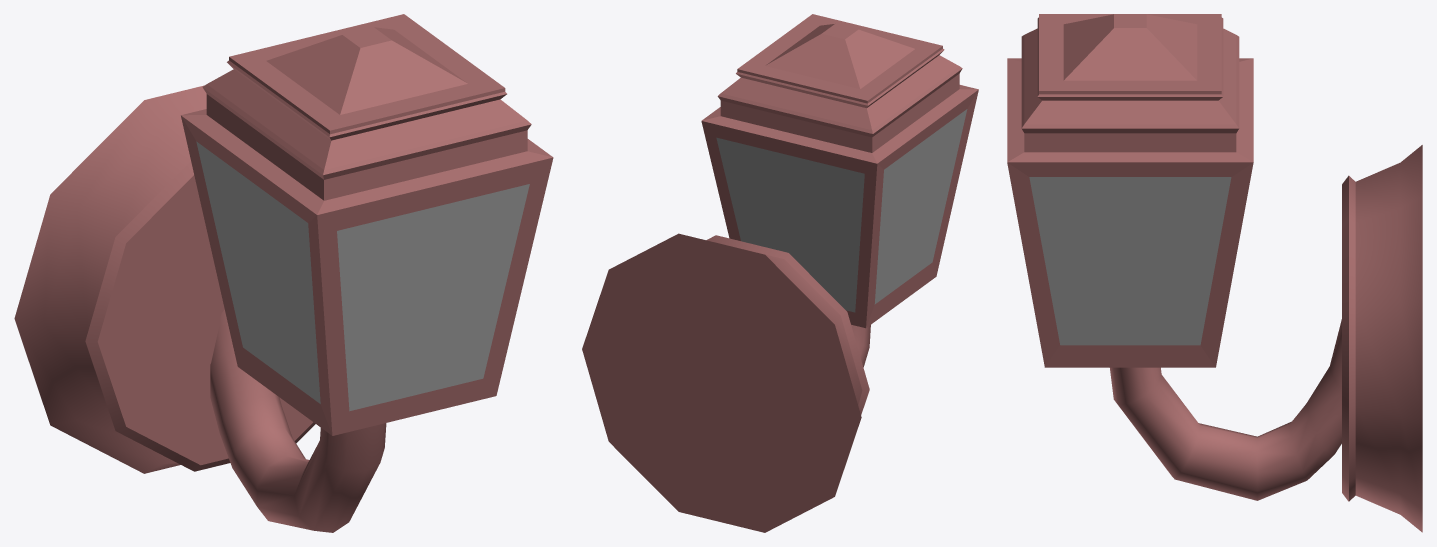
File: Wall Lamp.fbx
3 renders of one model, left to right at view 1: azimuth 30°, elevation 25°; view 2: azimuth 150°, elevation 25°; view 3: azimuth 270°, elevation 25°, orthographic. The views are drawn at different scales.
Parts seen in each view (by area): view 1: pCube173; view 2: pCube173; view 3: pCube173.
Part boxes in pixels (bbox=[...]): pCube173: bbox=[14, 14, 553, 532]; pCube173: bbox=[582, 14, 978, 532]; pCube173: bbox=[1007, 14, 1422, 532].
Size of the model in its own units: 1.25 by 1.71 by 1.32.
